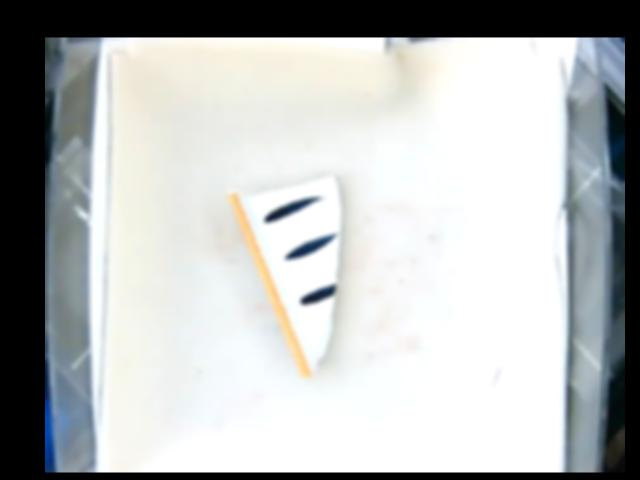China: (228, 173, 342, 377)
